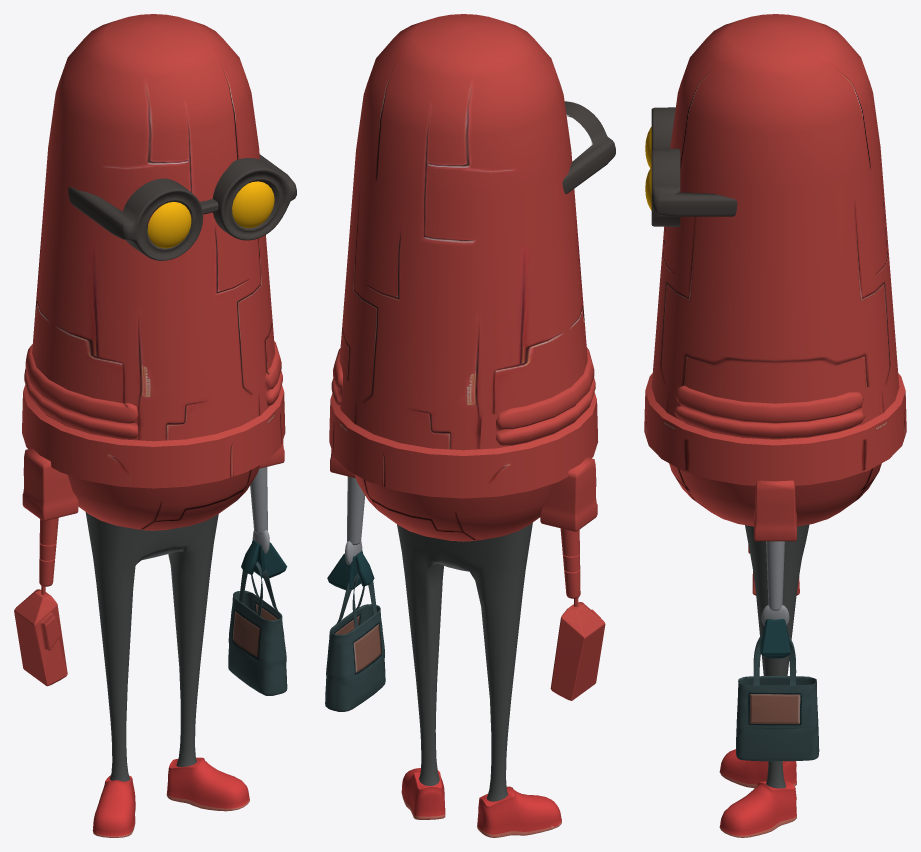
The model's file is beatbot.glb.
3 renders of one model, left to right at view 1: azimuth 30°, elevation 25°; view 2: azimuth 150°, elevation 25°; view 3: azimuth 270°, elevation 25°, orthographic. The views are drawn at different scales.
Visible parts, largest first — view 1: Char_03rt_01; view 2: Char_03rt_01; view 3: Char_03rt_01.
Boxes of the visible parts, <box> form: Char_03rt_01: <box>14,14,296,837</box>; Char_03rt_01: <box>325,14,615,837</box>; Char_03rt_01: <box>644,14,906,837</box>.
Size of the model in its own units: 7.4 by 21.46 by 6.58.
1 material, 1 textured.
